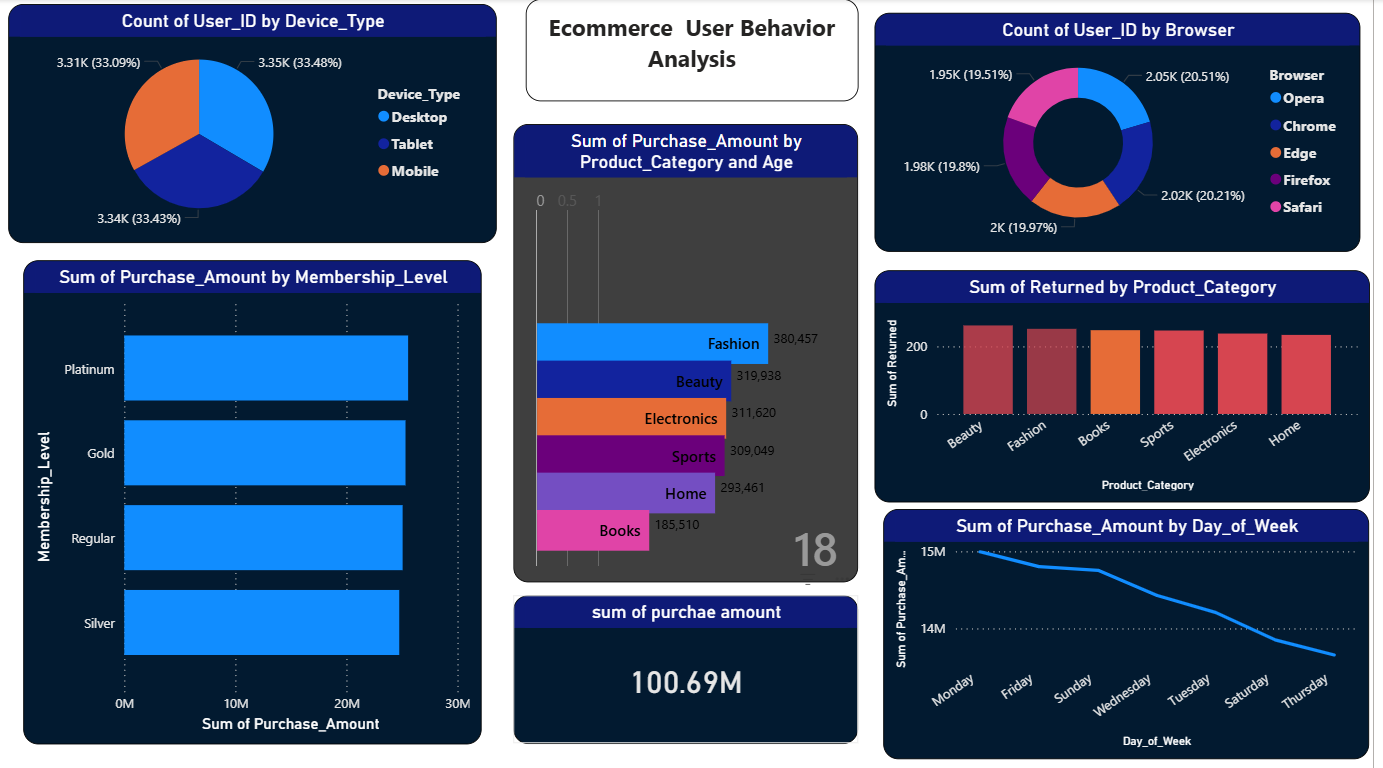

This screenshot's page, from the dashboard's own definition file:
{"tool":"powerbi","page":{"name":"Page 1","canvas":[1280,720],"ordinal":0},"visuals":[{"type":"card","title":"sum of purchae amount","fields":{"Values":["Sum(ecommerce_db user_behavior.Purchase_Amount)"]},"box":[480.2,554.7,320.9,138.4],"z":0},{"type":"wishyoulizationbarchartrace","fields":{"name":["ecommerce_db user_behavior.Product_Category"],"value":["Sum(ecommerce_db user_behavior.Purchase_Amount)"],"year":["ecommerce_db user_behavior.Age"]},"box":[480.2,116.3,320.9,426.7],"z":1000},{"type":"lineChart","fields":{"Category":["ecommerce_db user_behavior.Day_of_Week"],"Y":["Sum(ecommerce_db user_behavior.Purchase_Amount)"]},"box":[824.4,474.4,452.3,232.6],"z":2000},{"type":"clusteredBarChart","fields":{"Category":["ecommerce_db user_behavior.Membership_Level"],"Y":["Sum(ecommerce_db user_behavior.Purchase_Amount)"]},"box":[24.4,243,426.7,450],"z":3000},{"type":"pieChart","fields":{"Category":["ecommerce_db user_behavior.Device_Type"],"Y":["CountNonNull(ecommerce_db user_behavior.User_ID)"]},"box":[10.5,4.7,454.7,222.1],"z":4000},{"type":"donutChart","fields":{"Y":["CountNonNull(ecommerce_db user_behavior.User_ID)"],"Category":["ecommerce_db user_behavior.Browser"]},"box":[816.3,12.8,452.3,222.1],"z":5000},{"type":"columnChart","fields":{"Category":["ecommerce_db user_behavior.Product_Category"],"Y":["Sum(ecommerce_db user_behavior.Returned)"]},"box":[816.3,252.3,460.5,216.3],"z":6000},{"type":"textbox","box":[491.9,0,309.3,95.3],"z":7000}]}

Visuals, with their boxes in screenshot pixels (x1, y1, x2, y2), scaled from the page's 1280x720 canvas onto the 1383x768 screenshot:
"sum of purchae amount" card: {"x1": 519, "y1": 592, "x2": 866, "y2": 739}
wishyoulizationbarchartrace - ecommerce_db user_behavior.Product_Category x Sum(ecommerce_db user_behavior.Purchase_Amount): {"x1": 519, "y1": 124, "x2": 866, "y2": 579}
lineChart - ecommerce_db user_behavior.Day_of_Week x Sum(ecommerce_db user_behavior.Purchase_Amount): {"x1": 891, "y1": 506, "x2": 1379, "y2": 754}
clusteredBarChart - ecommerce_db user_behavior.Membership_Level x Sum(ecommerce_db user_behavior.Purchase_Amount): {"x1": 26, "y1": 259, "x2": 487, "y2": 739}
pieChart - ecommerce_db user_behavior.Device_Type x CountNonNull(ecommerce_db user_behavior.User_ID): {"x1": 11, "y1": 5, "x2": 503, "y2": 242}
donutChart - CountNonNull(ecommerce_db user_behavior.User_ID) x ecommerce_db user_behavior.Browser: {"x1": 882, "y1": 14, "x2": 1371, "y2": 251}
columnChart - ecommerce_db user_behavior.Product_Category x Sum(ecommerce_db user_behavior.Returned): {"x1": 882, "y1": 269, "x2": 1380, "y2": 500}
textbox: {"x1": 531, "y1": 0, "x2": 866, "y2": 102}
